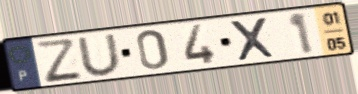0: (134, 28, 172, 73)
1: (287, 11, 315, 57)
4: (182, 22, 219, 66)
U: (75, 32, 125, 78)
X: (227, 15, 279, 63)
Z: (33, 37, 85, 85)
